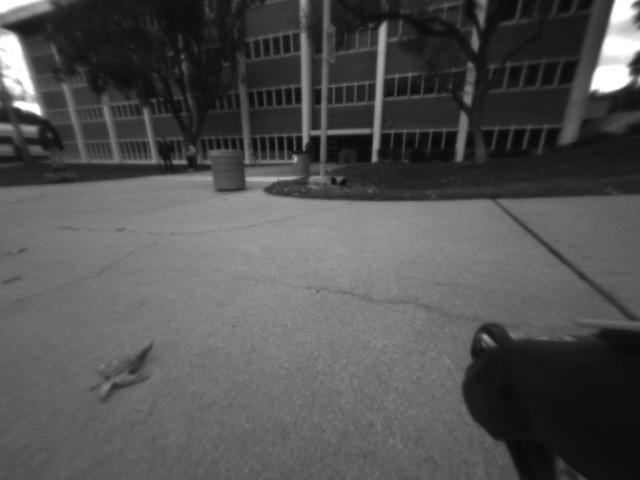trashcan: (208, 148, 248, 194), (291, 148, 318, 180)
